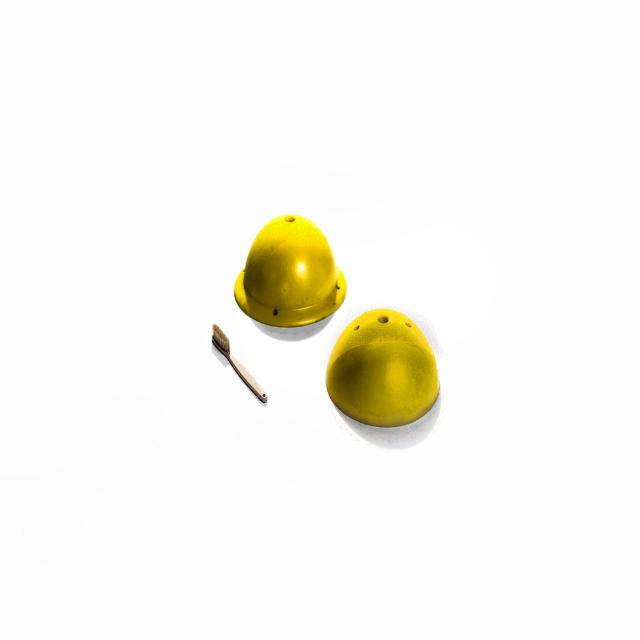Hold: (319, 307, 442, 427), (230, 206, 347, 330)
